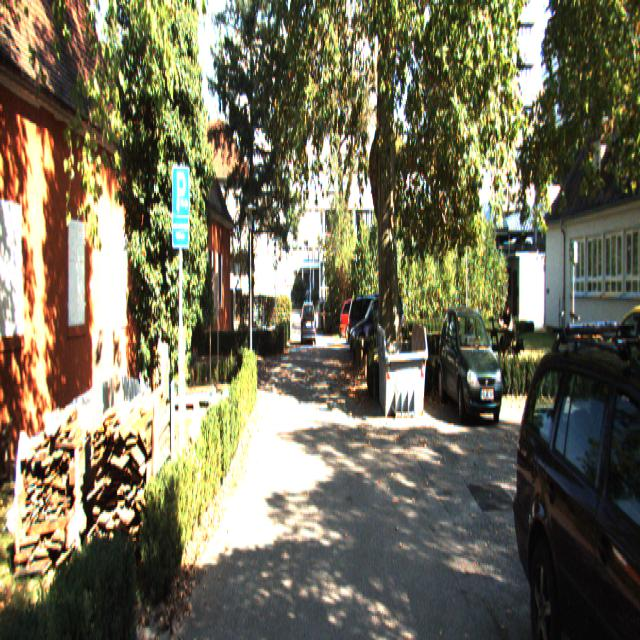Car: (509, 321, 640, 638), (436, 302, 507, 428), (593, 309, 640, 427), (348, 293, 406, 362), (348, 293, 400, 354), (340, 295, 383, 345), (301, 300, 316, 346)
